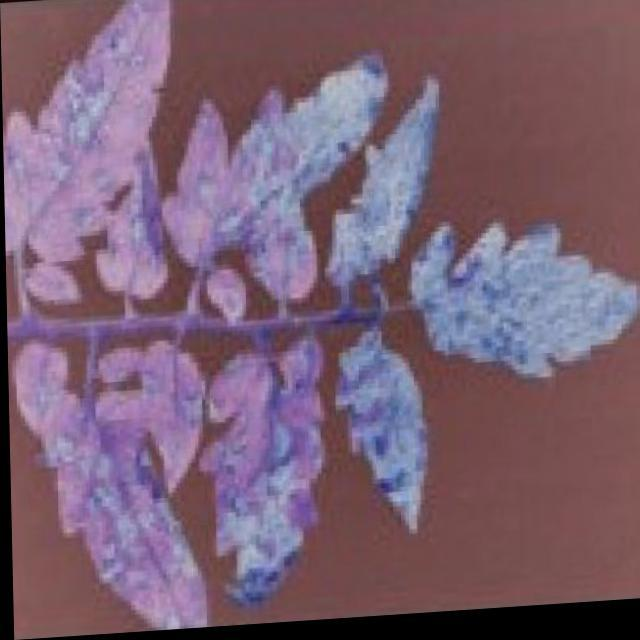Tomato Septoria spot leaf: (12, 341, 215, 638), (5, 3, 190, 298), (194, 340, 324, 613), (167, 101, 241, 313), (140, 336, 204, 506)
